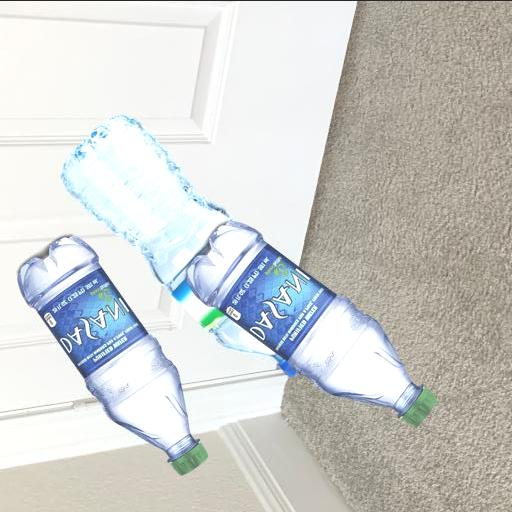bottle: (68, 117, 436, 403), (14, 232, 213, 478)
